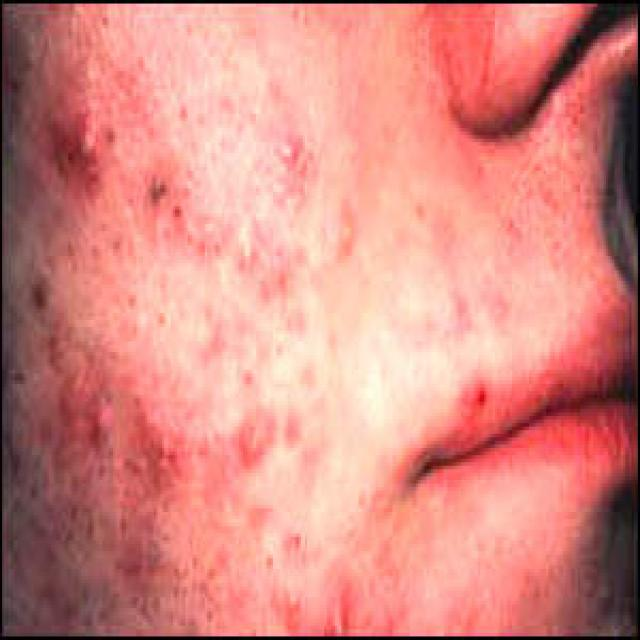Acne: (5, 15, 623, 626)
